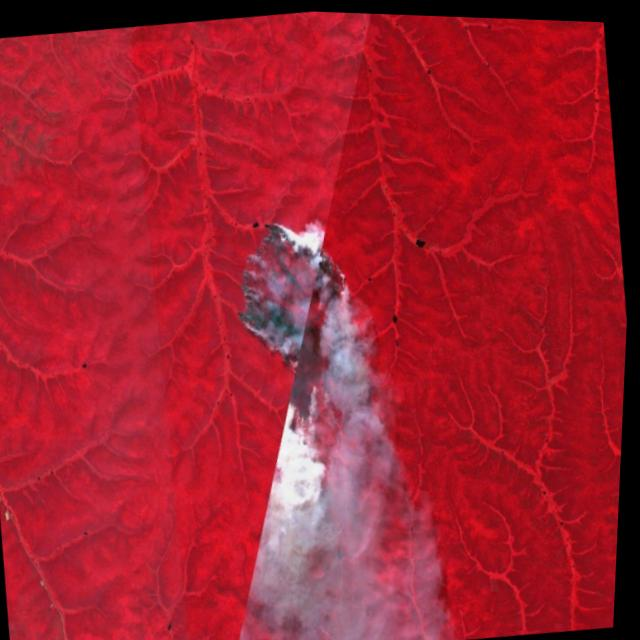fire: (219, 204, 373, 434)
